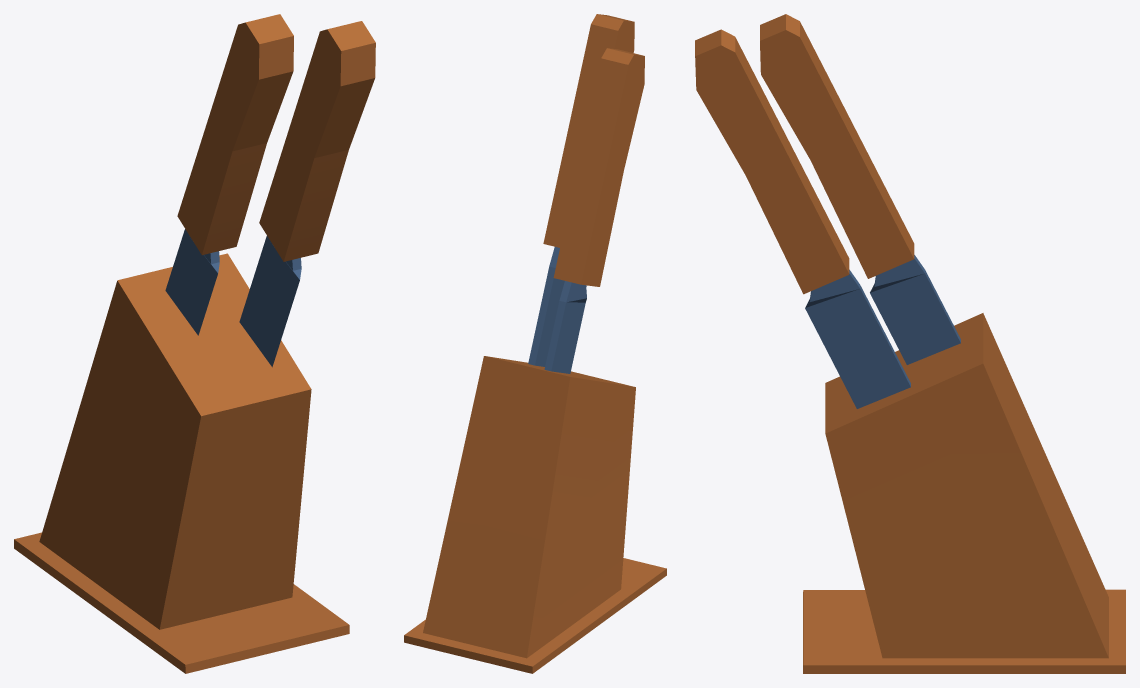
File: Dual knives.fbx
3 views of the same model, side by side, from view 1: azimuth 30°, elevation 25°; view 2: azimuth 150°, elevation 25°; view 3: azimuth 270°, elevation 25° (orthographic). The views are drawn at different scales.
Visible parts, largest first — view 1: Dual knives; view 2: Dual knives; view 3: Dual knives.
Boxes of the visible parts, x1,y1,x2,y2 form: Dual knives: [14, 14, 375, 673]; Dual knives: [404, 14, 666, 673]; Dual knives: [695, 14, 1125, 673].
Bounding box in the file's own units: 5.46 × 20.78 × 13.2.
